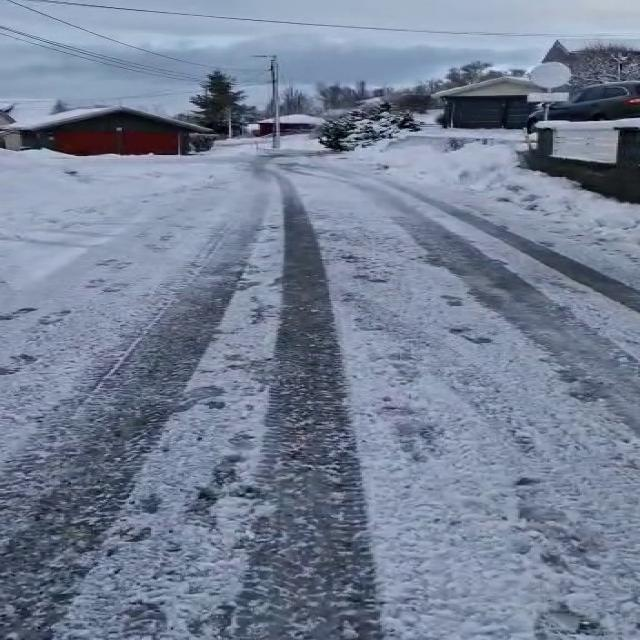path: (0, 149, 640, 640)
